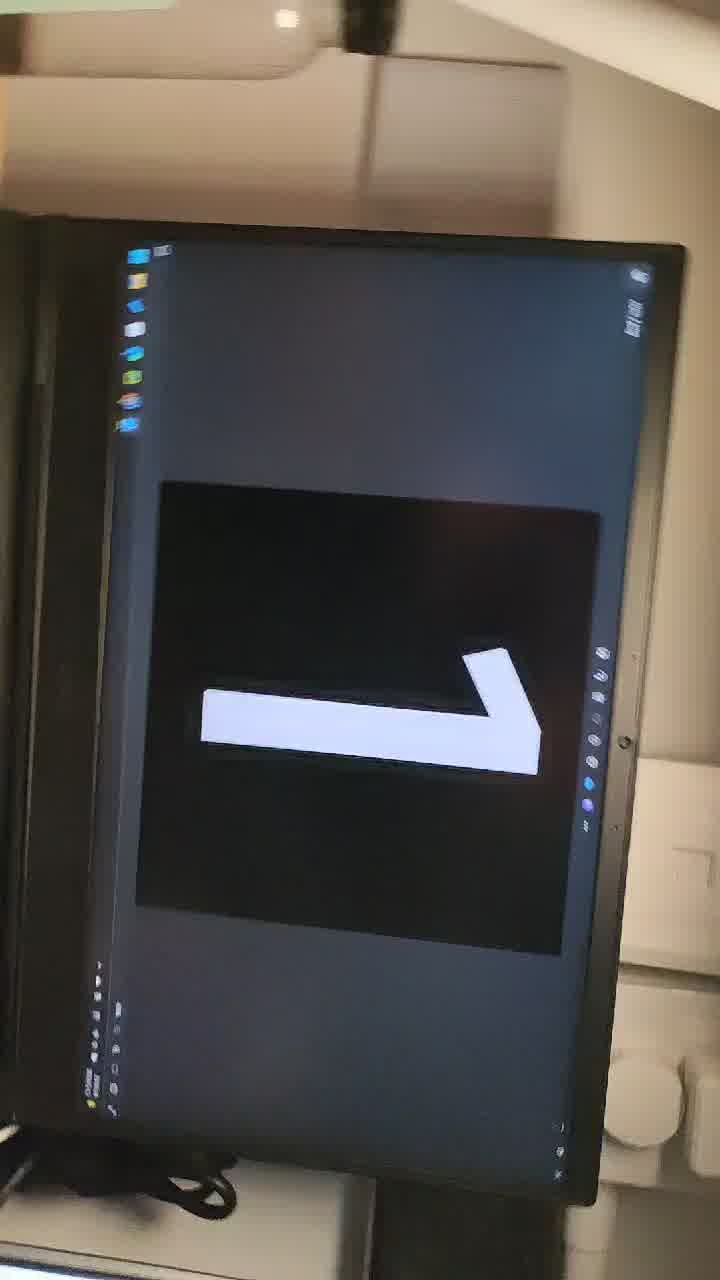one: (181, 542, 565, 907)
